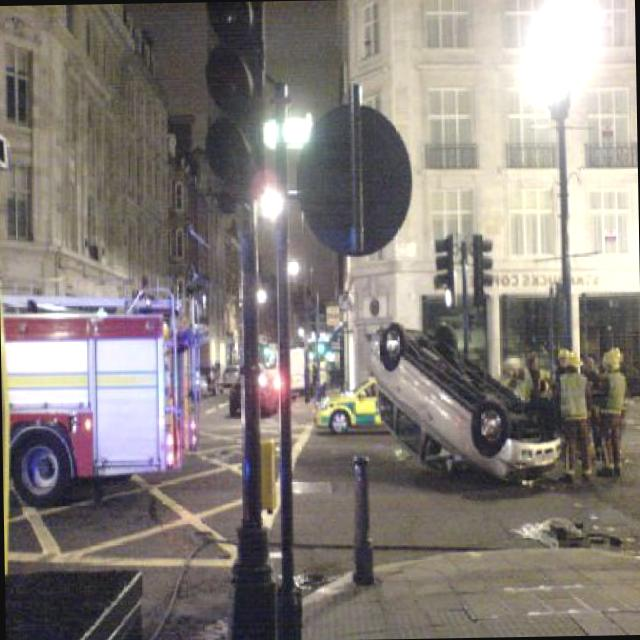Person: (548, 348, 592, 481), (594, 350, 627, 475), (591, 358, 614, 458), (526, 352, 558, 397), (584, 359, 602, 427), (556, 346, 572, 379)
